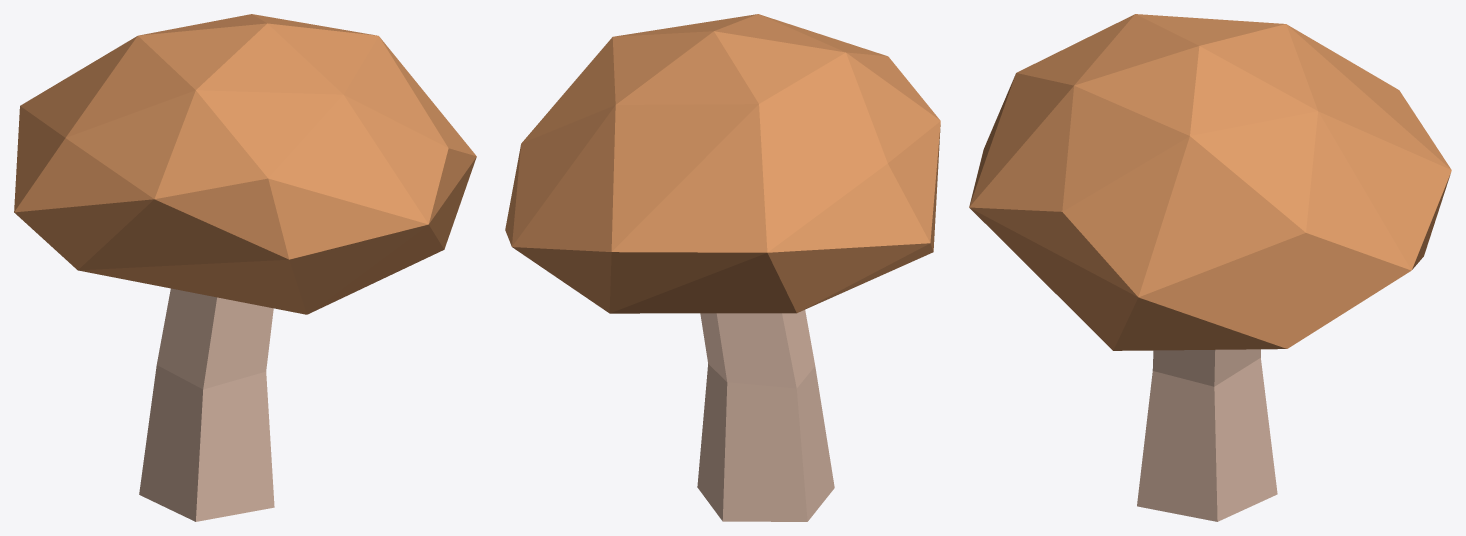
File: Mushroom_f_01.fbx
3 views of the same model, side by side, from view 1: azimuth 30°, elevation 25°; view 2: azimuth 150°, elevation 25°; view 3: azimuth 270°, elevation 25° (orthographic). The views are drawn at different scales.
Parts seen in each view (by area): view 1: Mushroom_f_01; view 2: Mushroom_f_01; view 3: Mushroom_f_01.
Part boxes in pixels (bbox=[...]): Mushroom_f_01: bbox=[14, 14, 476, 521]; Mushroom_f_01: bbox=[505, 14, 940, 521]; Mushroom_f_01: bbox=[969, 14, 1451, 521].
Size of the model in its own units: 24.32 by 25.49 by 23.62.
